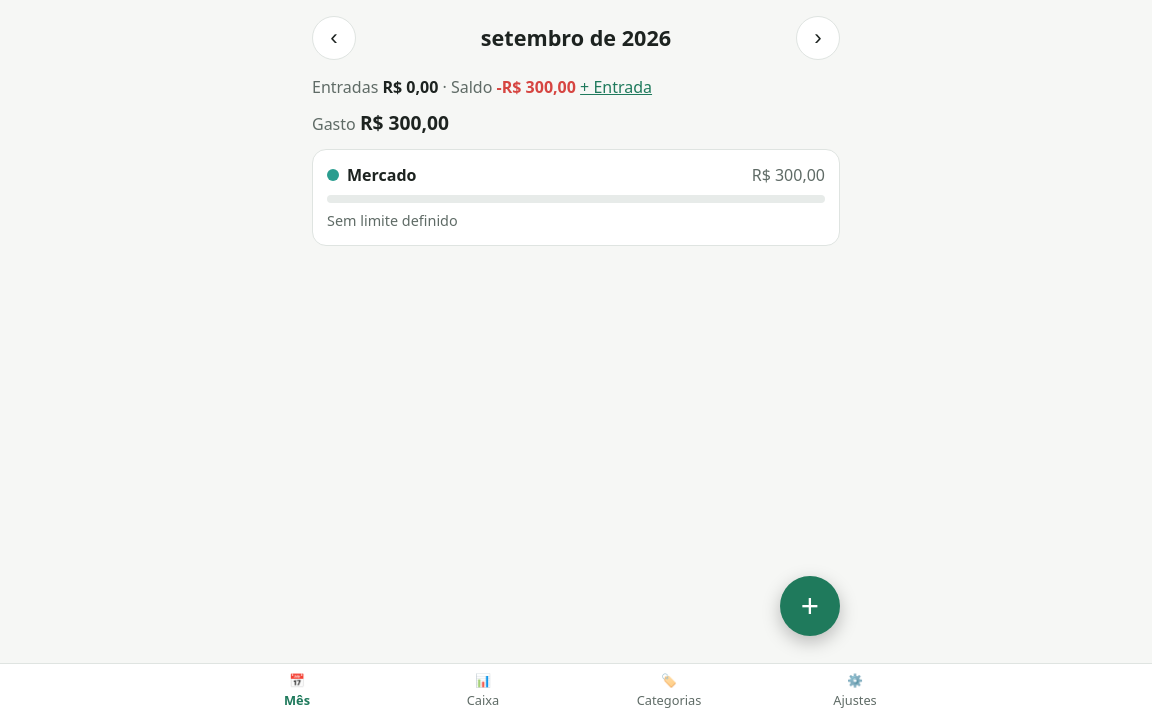
Test: entrada › lançar entrada atualiza entradas e saldo do mês
expect the text "Entradas R$ 0,00 · Saldo -R$ 300,00 + Entrada" is shown: met, box [312,76,652,98]
Click the link "+ Entrada" at (616, 87), box [580,76,652,98]
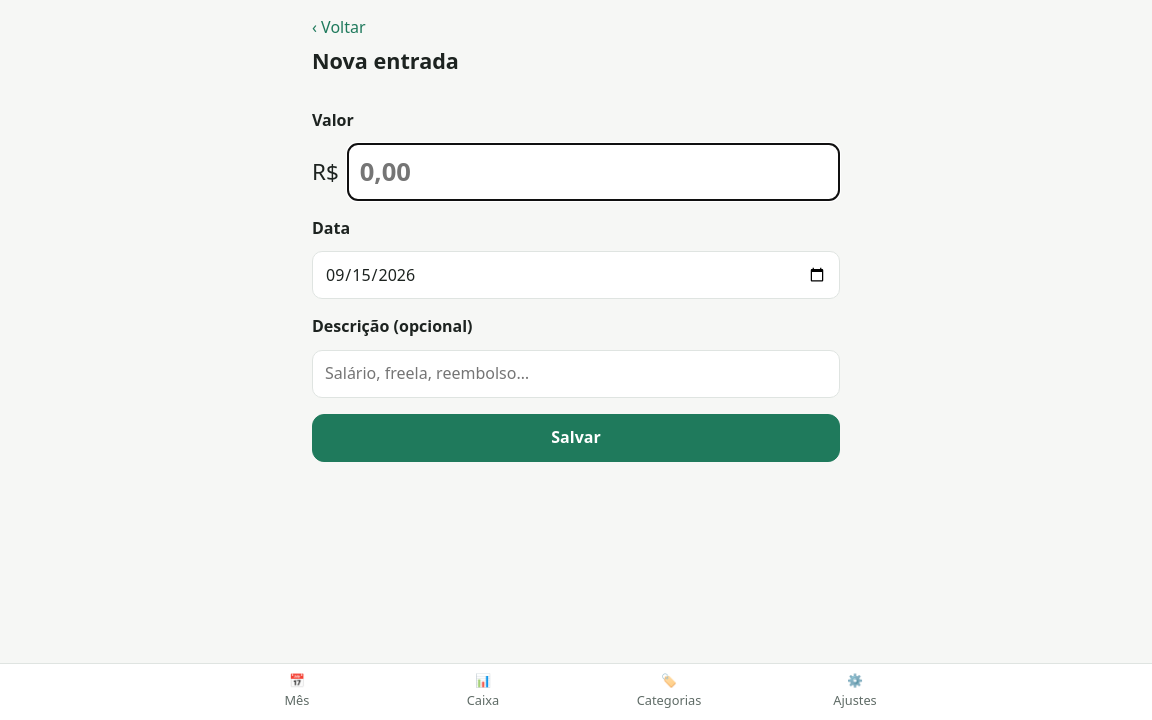
expect the heading "Nova entrada" is shown: met, box [312,46,459,75]
expect the date field labelled "Data" holds "2026-09-15": met, box [312,251,840,299]
Type "5000" into the field labelled "Valor" at (593, 172), box [347,143,840,201]
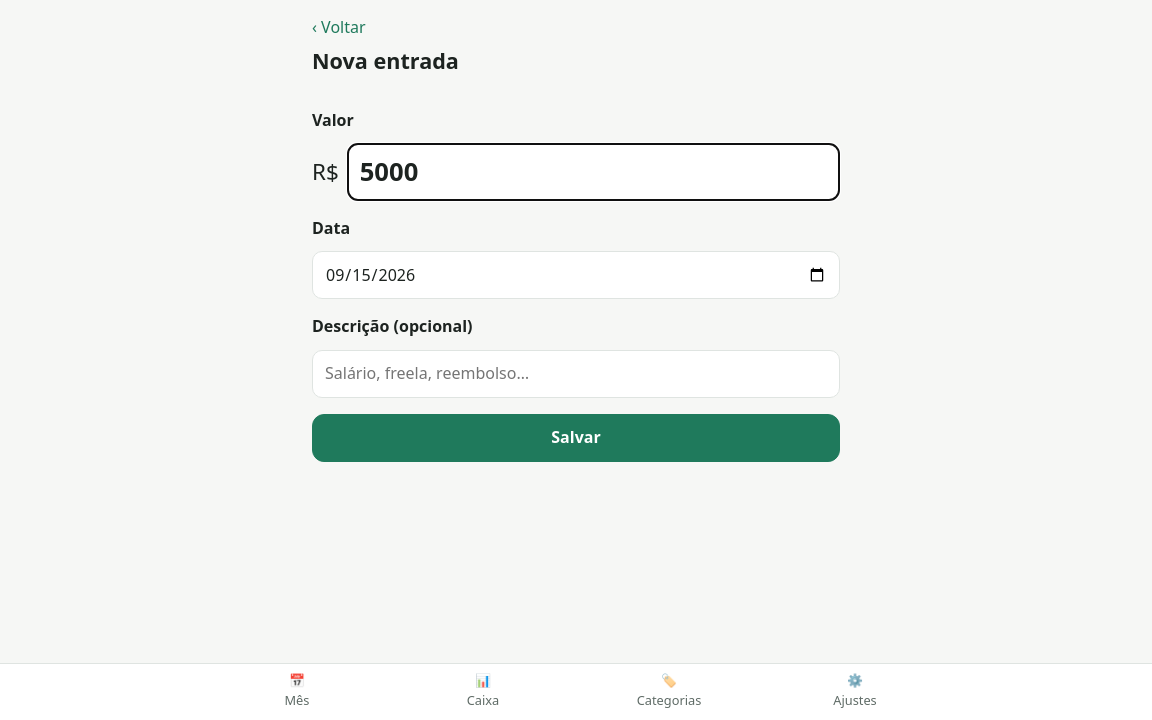
Type "Salário" into the field labelled "Descrição (opcional)" at (576, 374), box [312,350,840,398]
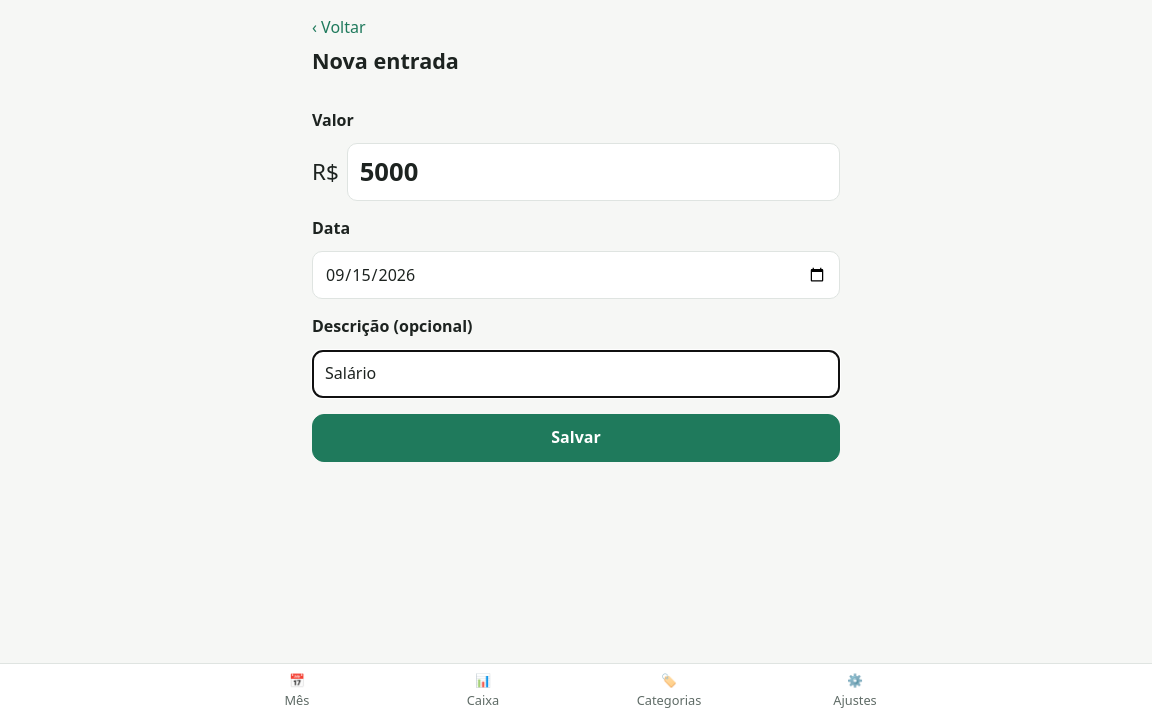
Click the button "Salvar" at (576, 438), box [312,414,840,462]
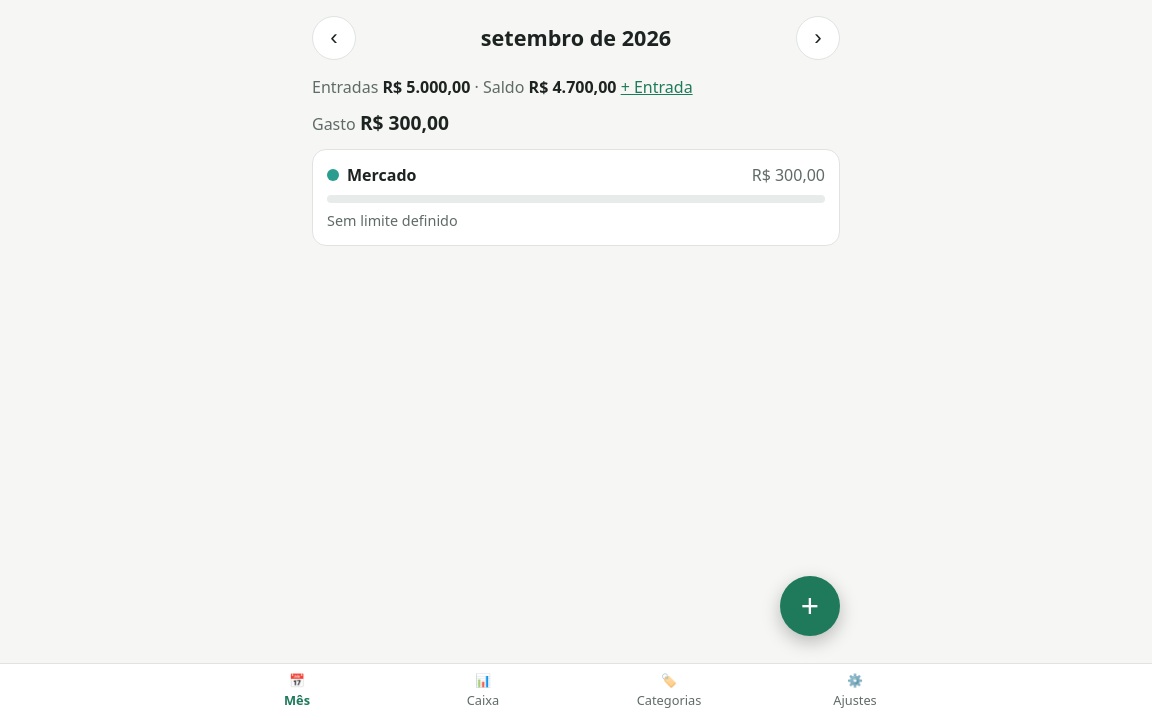
expect the text "Entradas R$ 5.000,00 · Saldo R$ 4.700,00 + Entrada" is shown: met, box [312,76,693,98]
